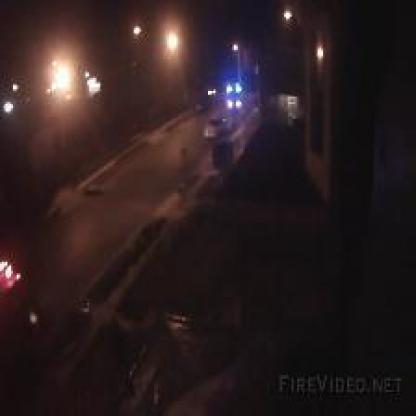other: (40, 35, 110, 118), (127, 16, 178, 59), (0, 246, 20, 296)
